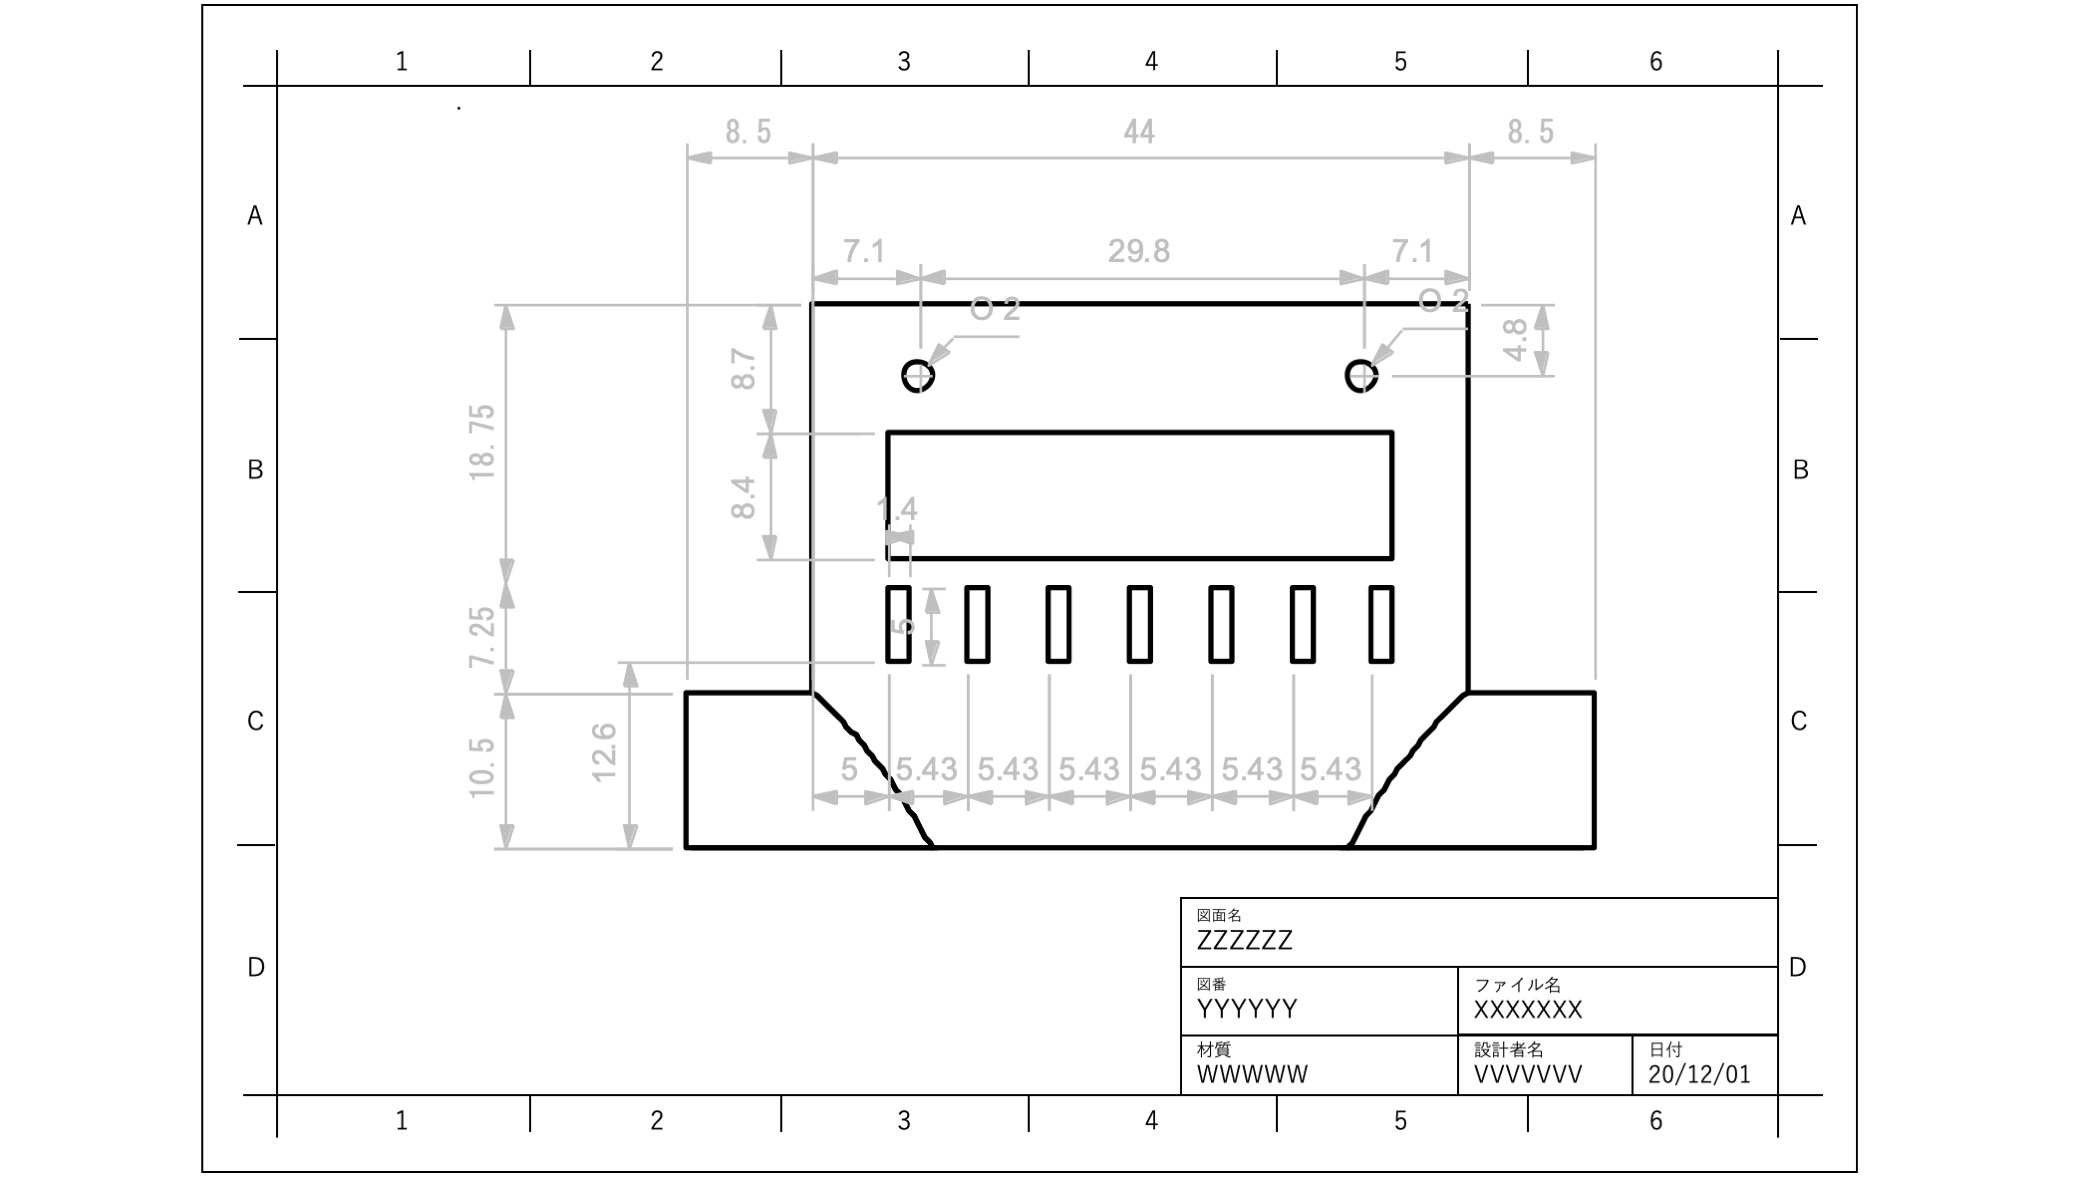circle: (893, 348, 939, 412), (1331, 355, 1382, 397)
rectangle: (873, 421, 1408, 570), (873, 574, 923, 684), (1276, 565, 1328, 671), (1030, 574, 1083, 671), (1115, 572, 1165, 673), (1196, 575, 1243, 676), (1357, 581, 1409, 672), (950, 581, 1000, 675)
